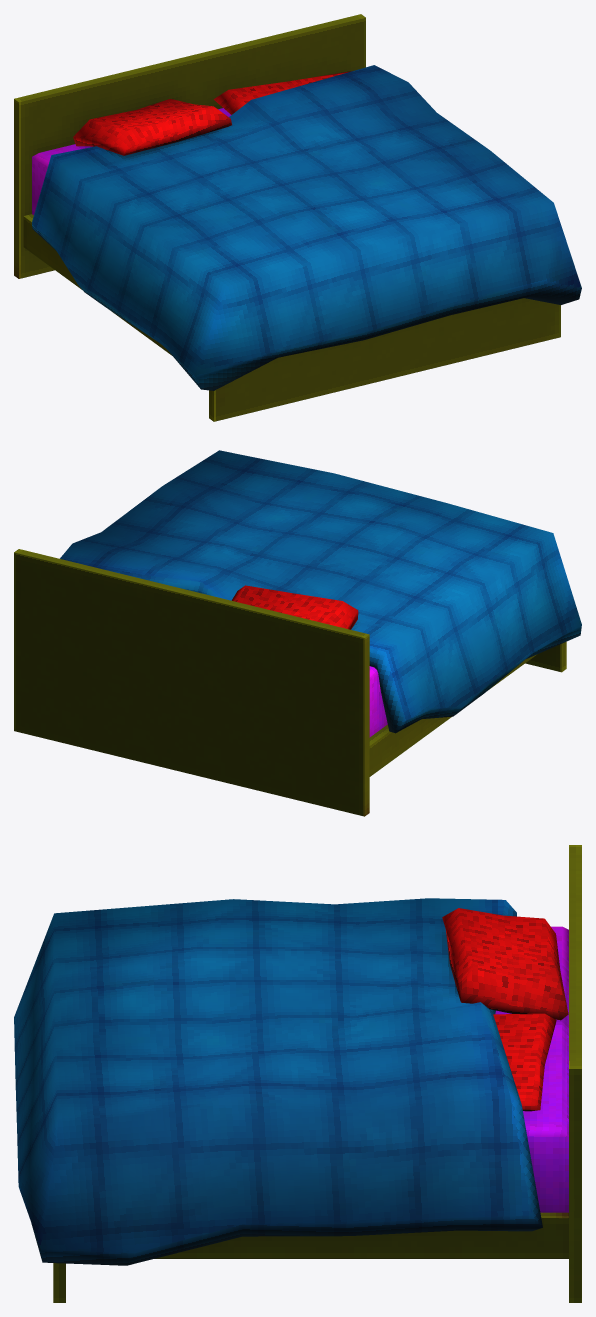
3 renders of one model, top to bottom at view 1: azimuth 30°, elevation 25°; view 2: azimuth 150°, elevation 25°; view 3: azimuth 270°, elevation 25°, orthographic. The views are drawn at different scales.
Parts seen in each view (by area): view 1: Bed_Bed_0; view 2: Bed_Bed_0; view 3: Bed_Bed_0.
Part boxes in pixels (x1,y1,x2,y2): Bed_Bed_0: [14, 14, 581, 421]; Bed_Bed_0: [14, 450, 581, 816]; Bed_Bed_0: [14, 845, 581, 1302].
Size of the model in its own units: 28.84 by 12.7 by 27.97.
1 material, 1 textured.
